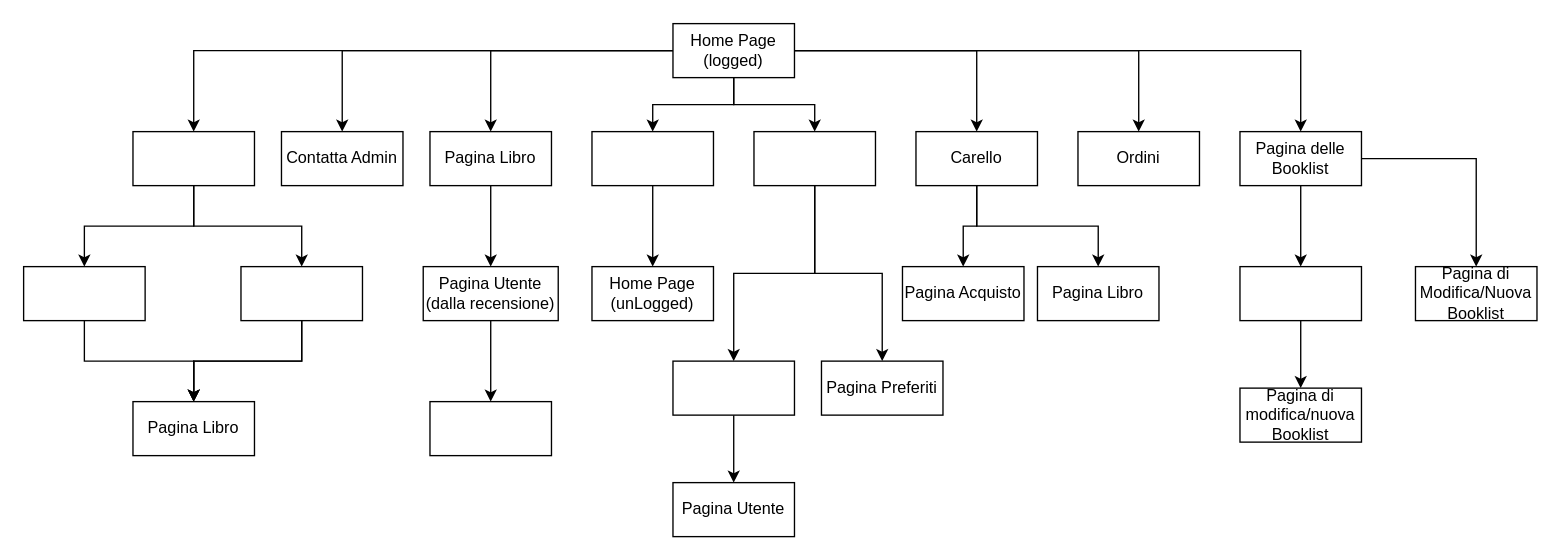
Some shapes in this 1561 by 560 pixel diagram are drawn without their labels. The shapes that lost their labels are listed below. From the top down, each one's box as (x1, y1, x2, y2) in pixels, then its label:
(132, 130, 254, 186): Ricerca
(591, 130, 713, 186): Logout
(753, 130, 875, 186): Area Utente
(22, 265, 145, 321): Pagina Autore
(240, 265, 362, 321): Pagina Genere
(1239, 265, 1361, 321): Pagina di una Booklist
(672, 360, 794, 415): Pagina Seguiti/Seguaci
(429, 400, 551, 456): Pagina Booklist
